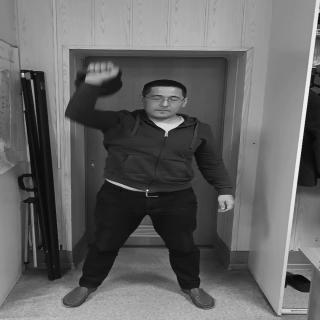girya: (76, 67, 127, 99)
